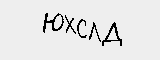Д: (102, 20, 123, 49)
Л: (87, 20, 102, 42)
С: (75, 17, 88, 40)
Х: (61, 14, 76, 35)
Ю: (39, 11, 64, 33)
